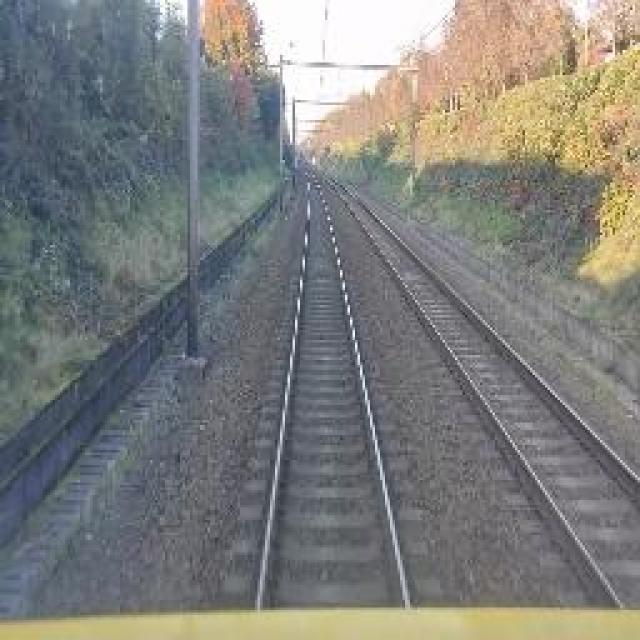rail: (215, 164, 447, 602)
